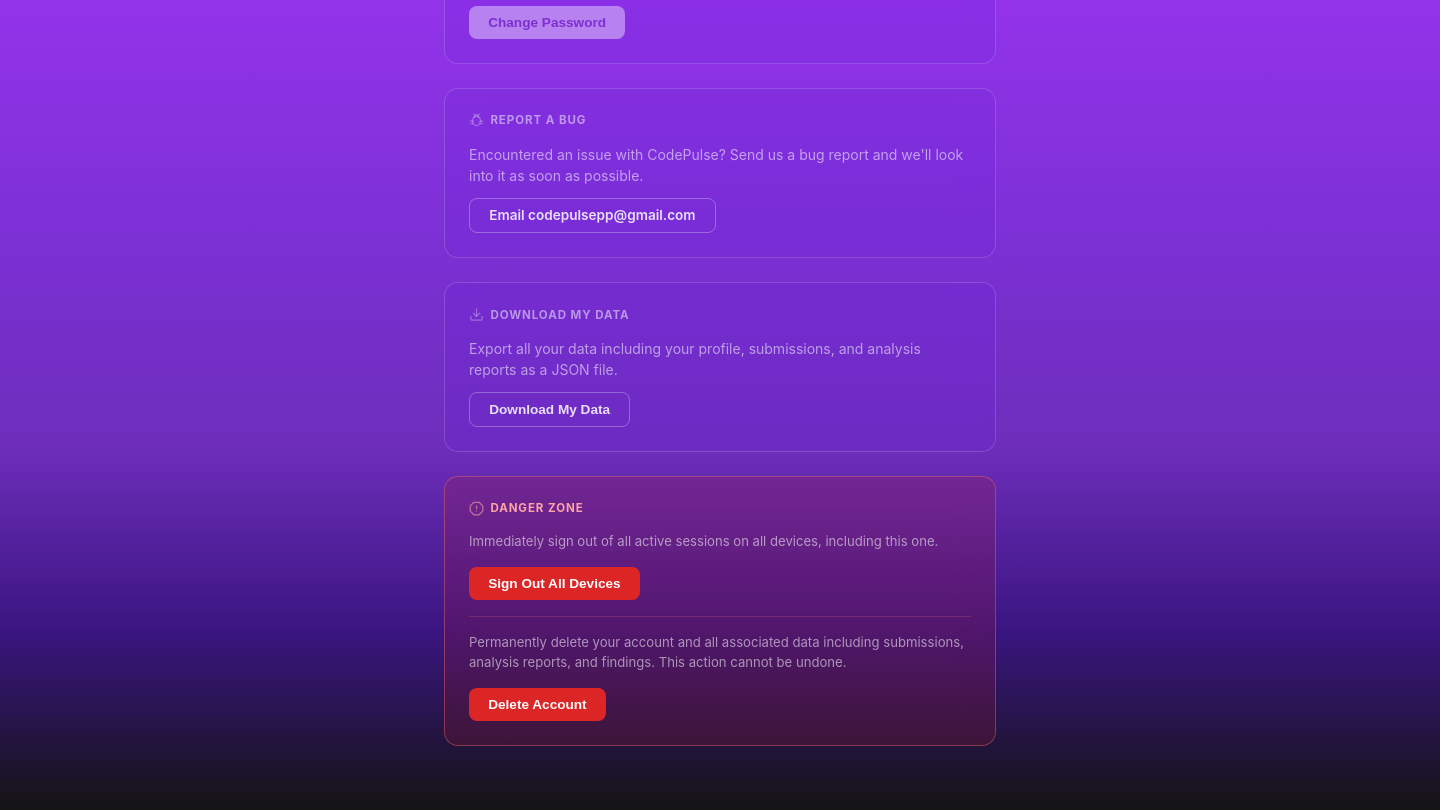
Test: AccountPage › shows delete confirmation modal when Delete Account is clicked
The image size is (1440, 810).
(page scrolled)
Check: the heading "Danger Zone" is shown, box [469,501,584,516]
What coordinates should you click on to do the following:
click the button "Delete Account"
I would click on:
 (537, 705)
Its box is [469,688,606,721].
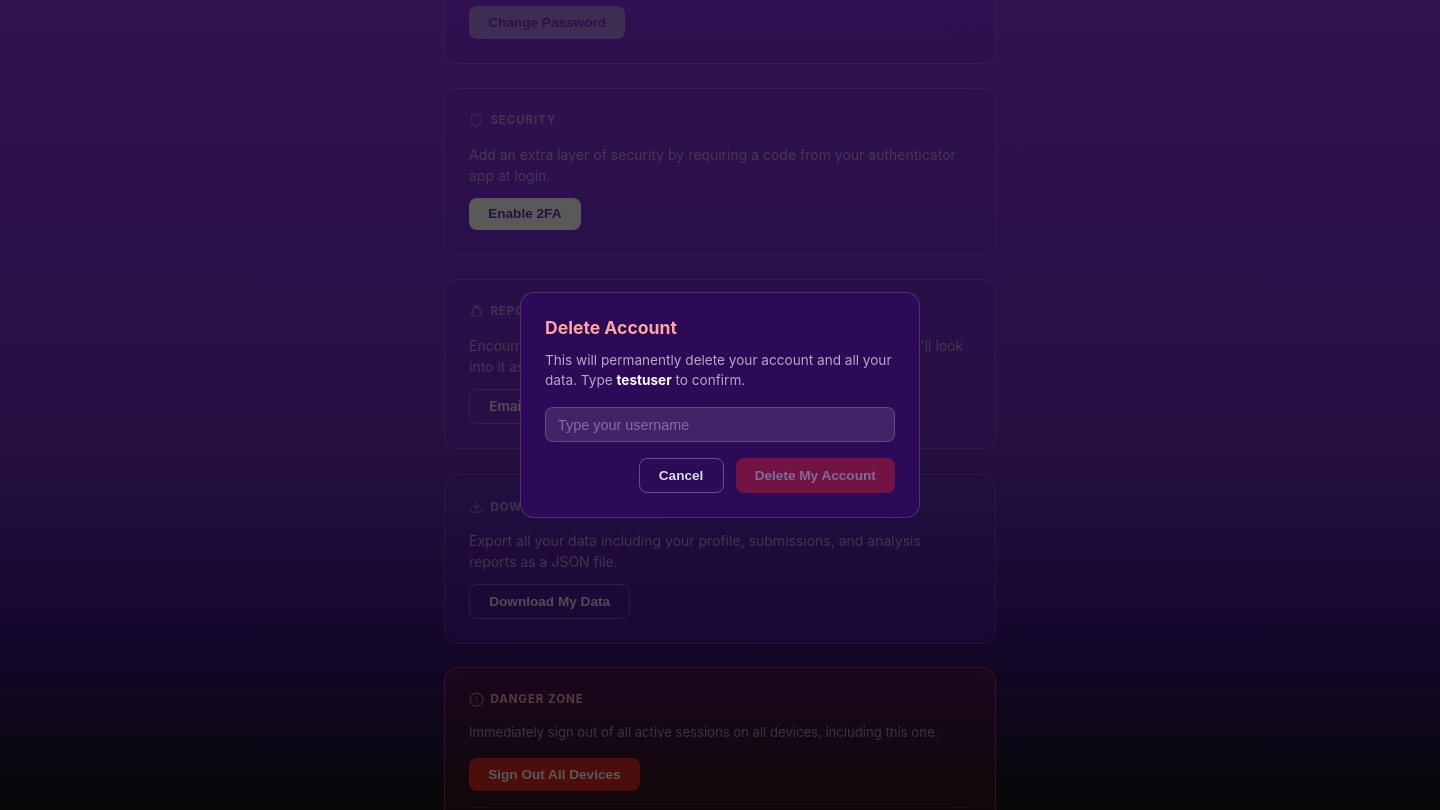
Check: the text "Type" is shown, box [545,352,892,388]
Check: the field with placeholder "Type your username" is shown, box [545,407,895,442]
